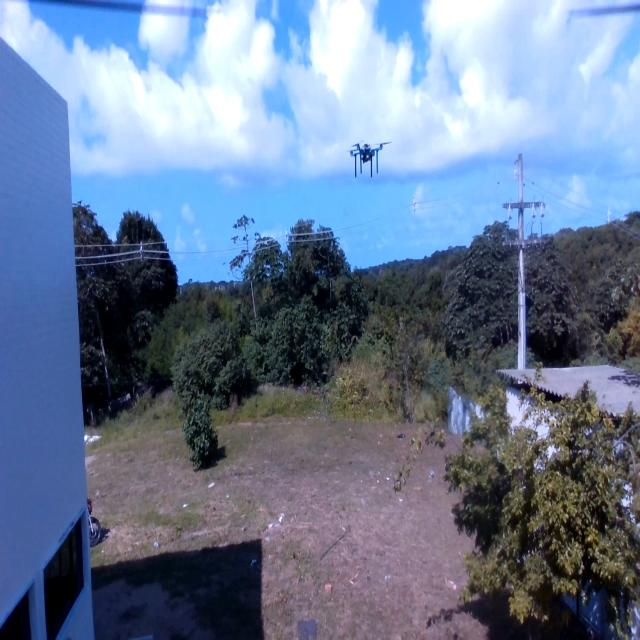-uav-: (340, 121, 397, 187)
